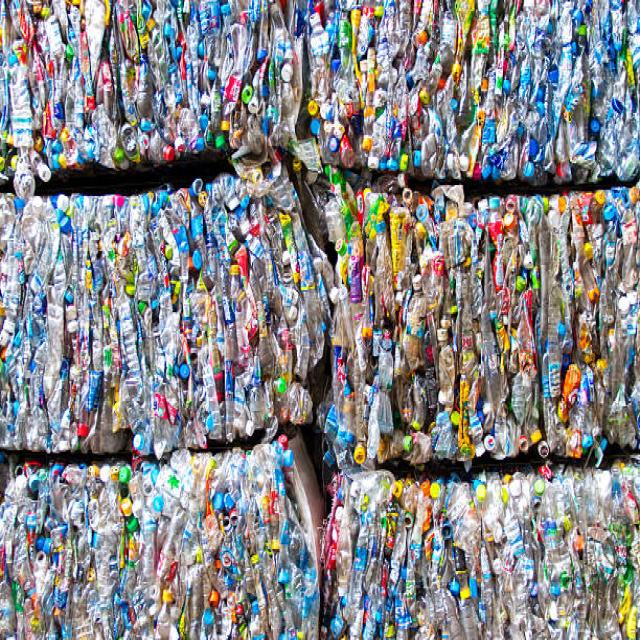plastic: (1, 2, 624, 149), (1, 204, 304, 436), (12, 496, 288, 630)
